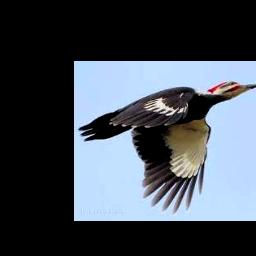Woodpecker: (78, 81, 256, 214)
